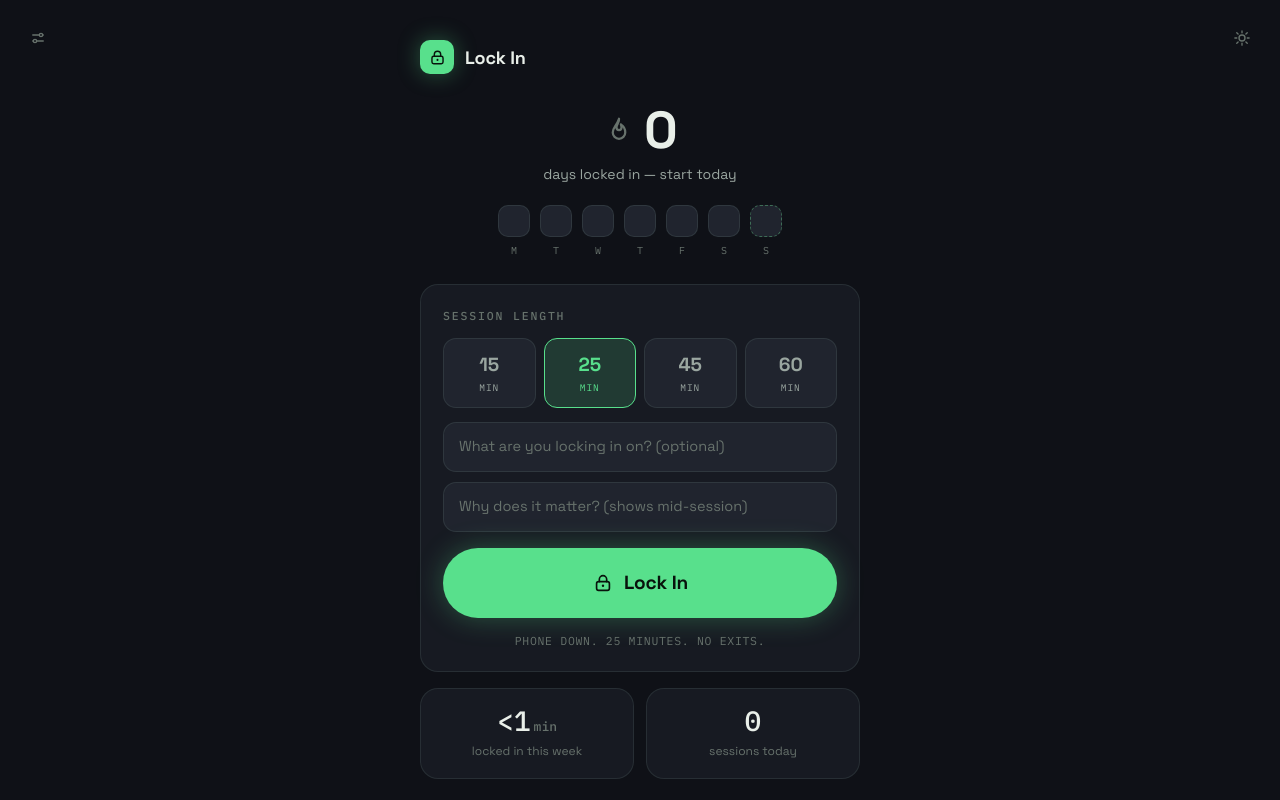
Test: the lock-in loop › pauses and resumes
Click the button "Lock In" at (640, 583), box [443,548,837,618]
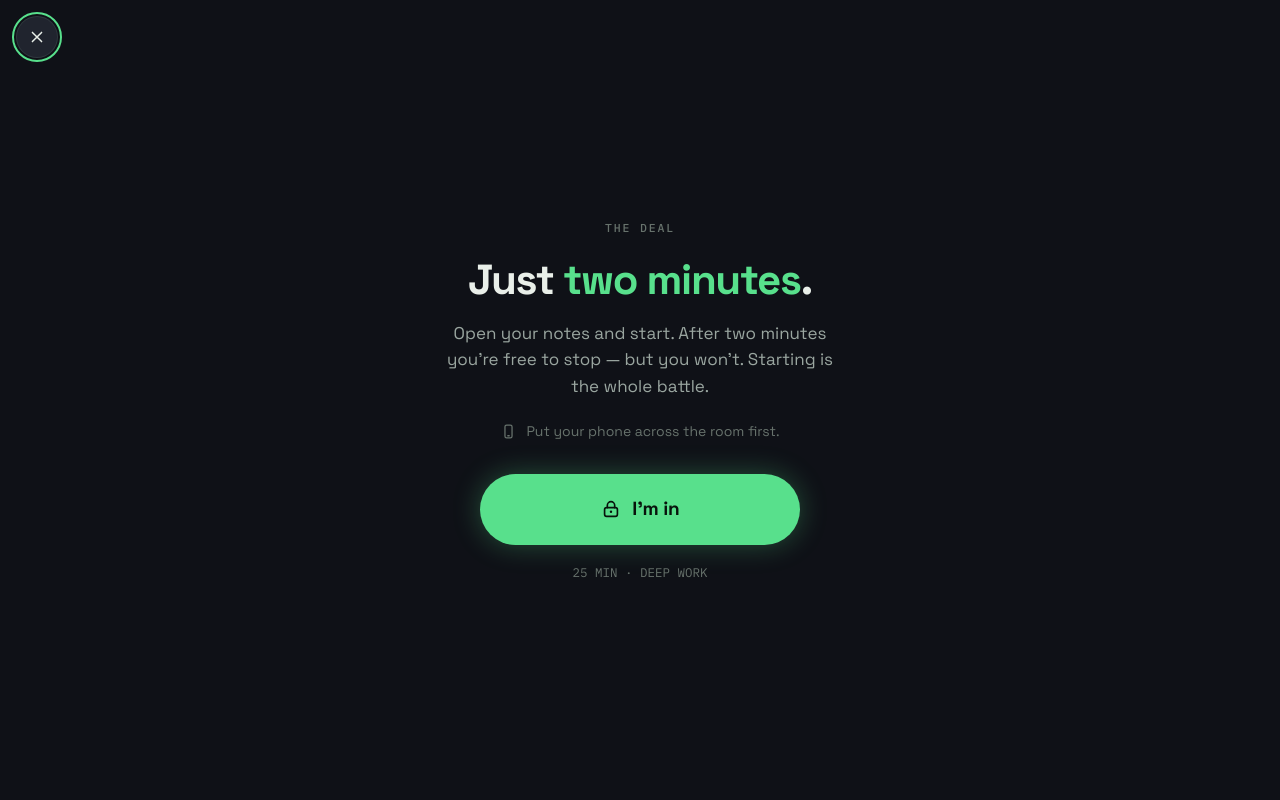
Click the button "I’m in" at (640, 509), box [480,474,800,545]
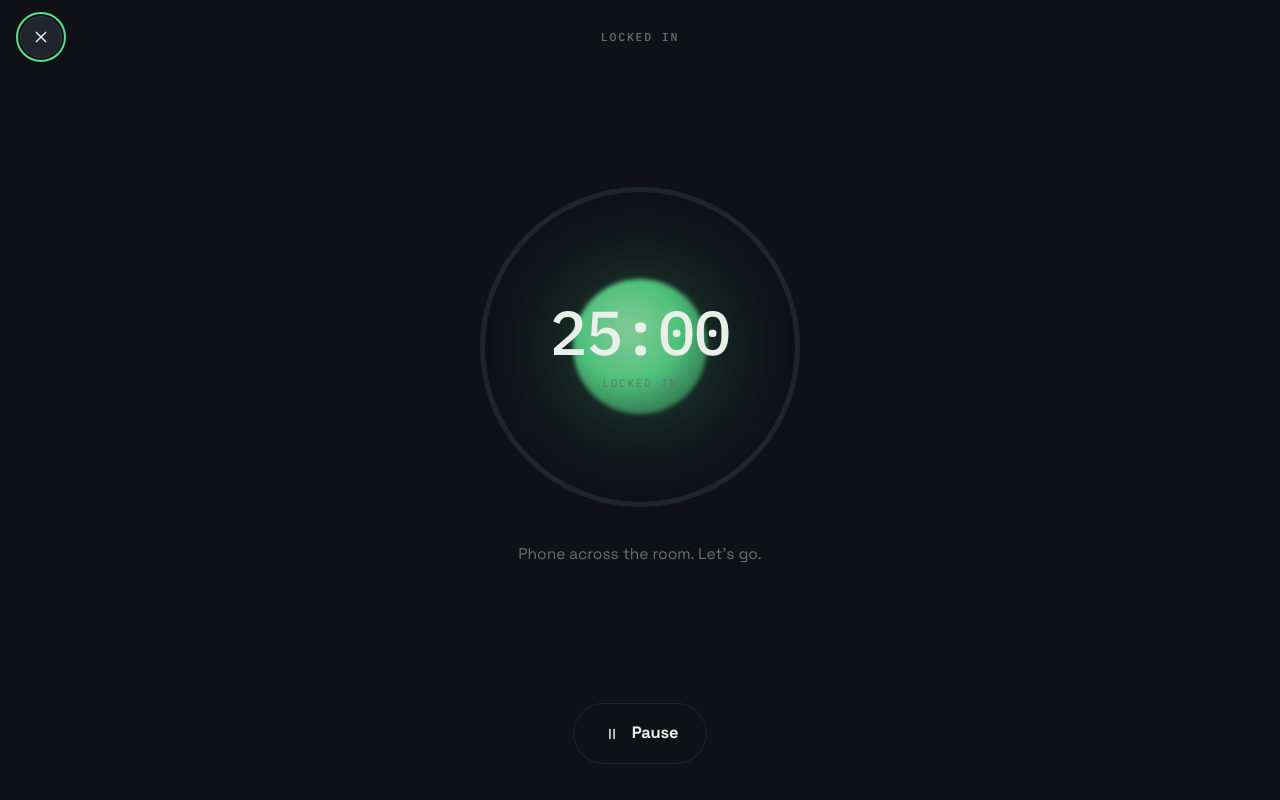
Click the button "Pause" at (640, 734), box [573,703,707,764]
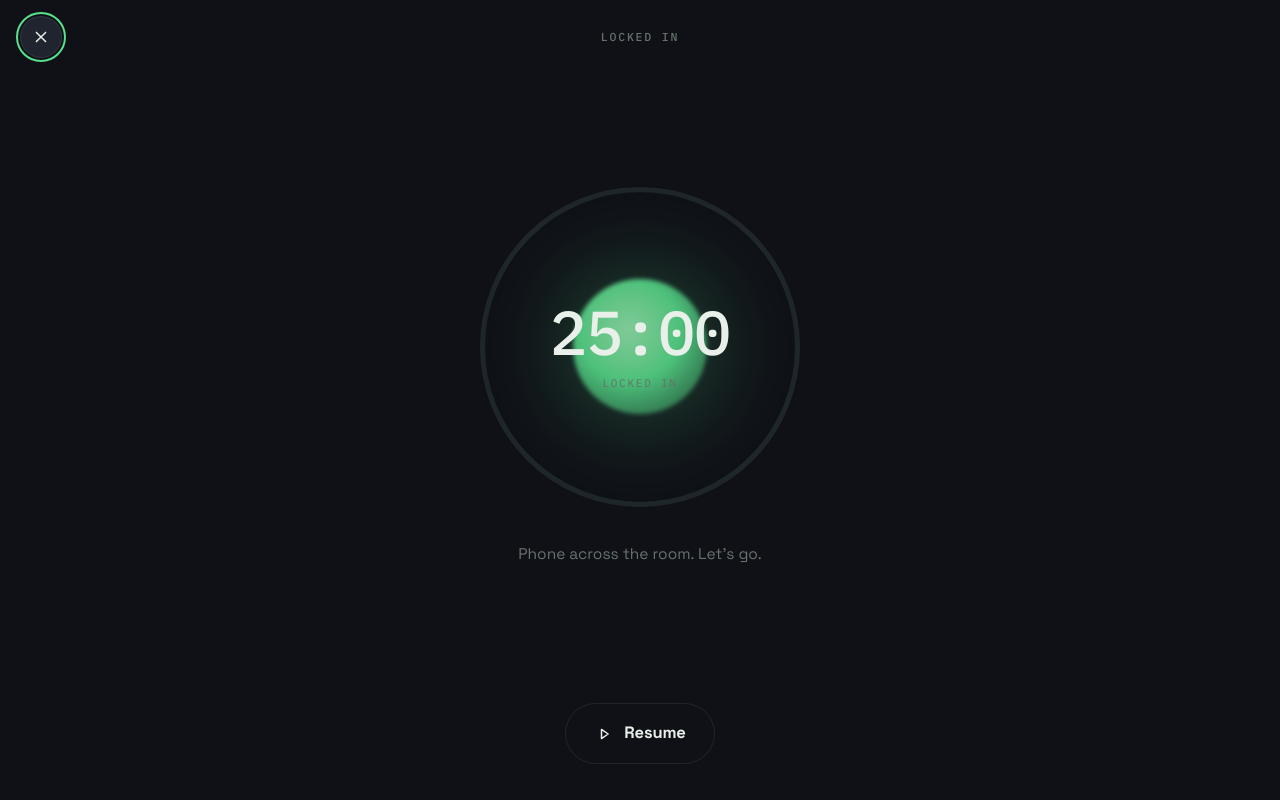
Check: the button "Resume" is shown
Click the button "Resume" at (640, 734), box [565,703,715,764]
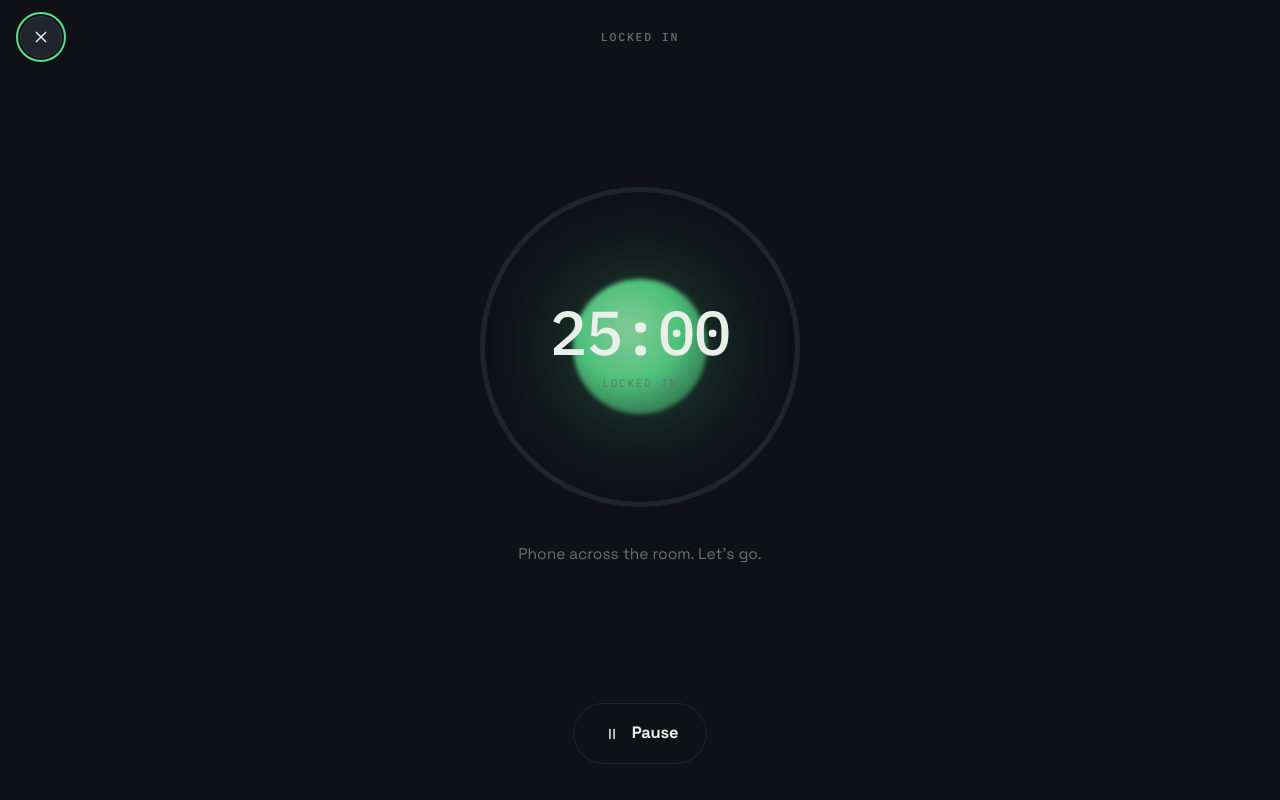
Check: the button "Pause" is shown, box [573,703,707,764]
